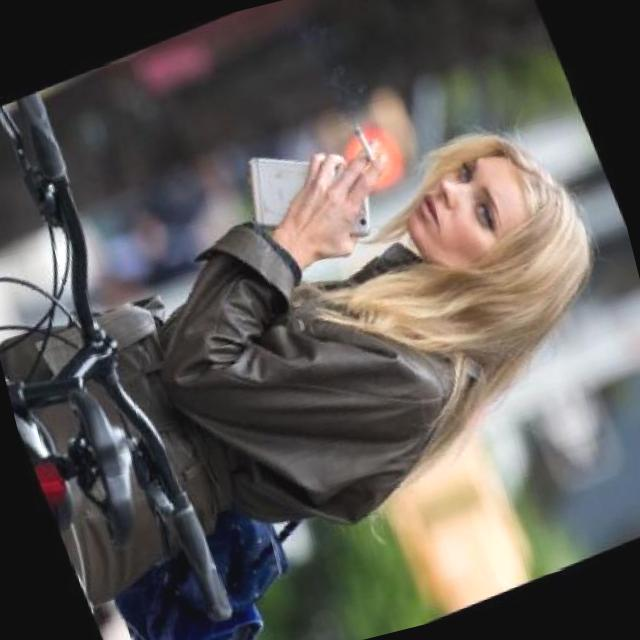smoke: (349, 115, 382, 172)
